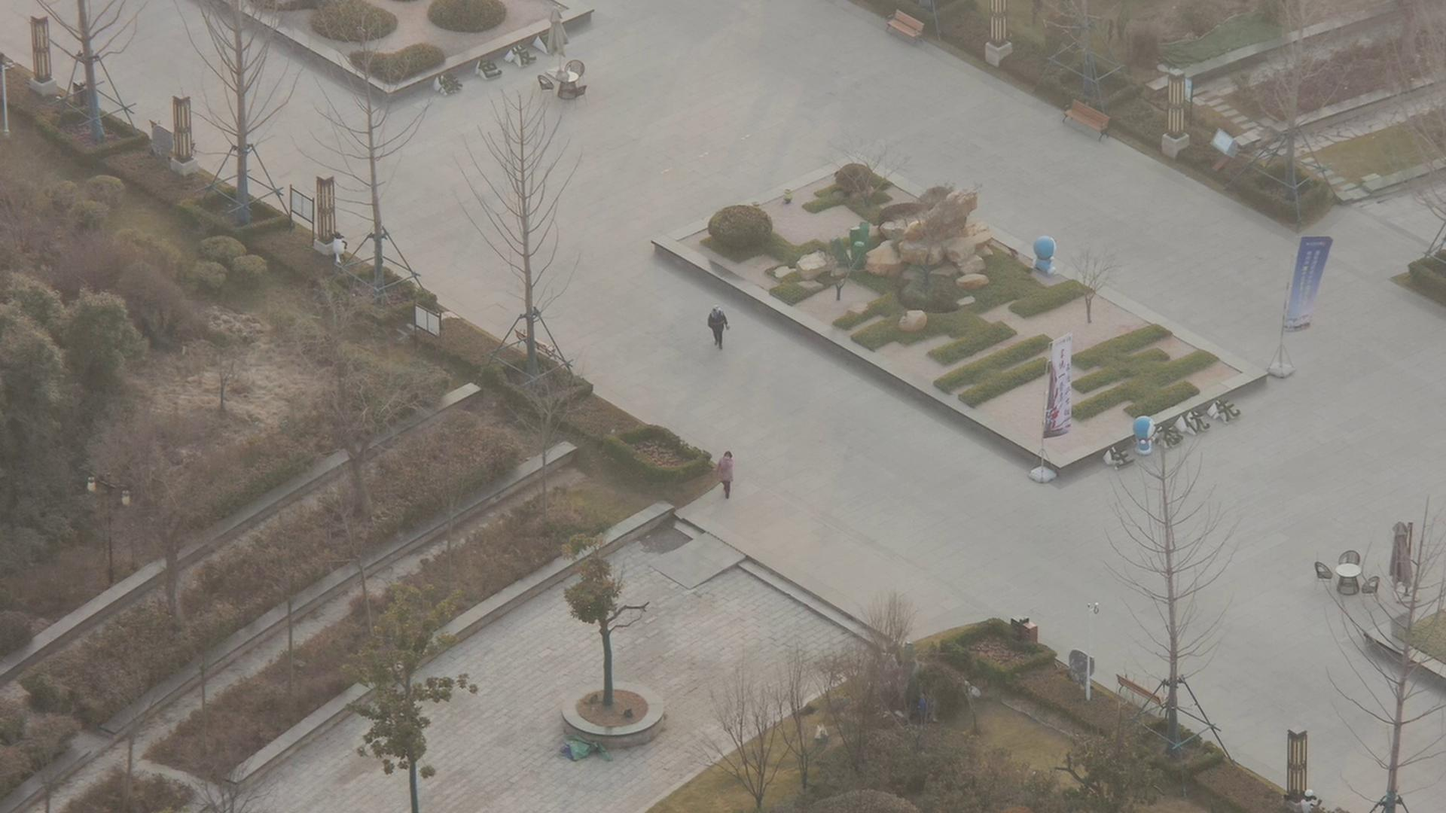human: (718, 430, 749, 497), (707, 287, 735, 361)
